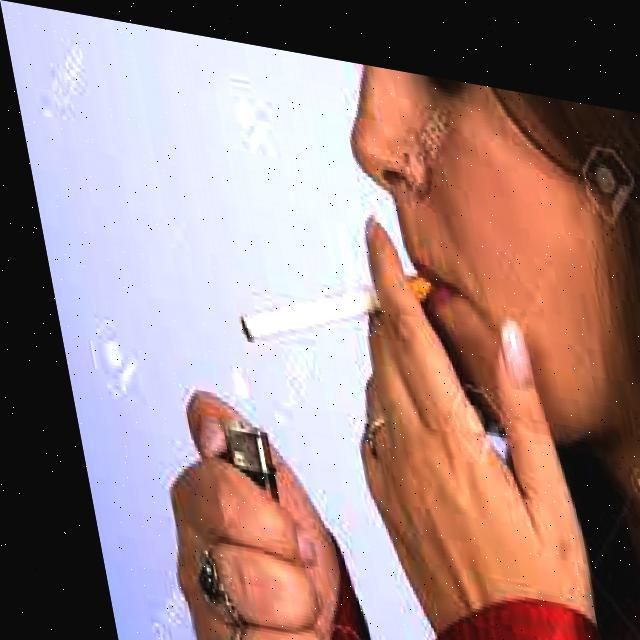Fire: (197, 332, 255, 420)
